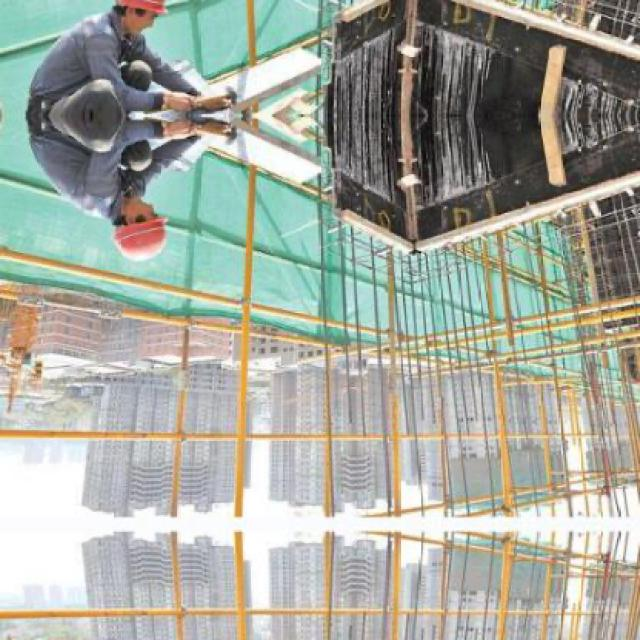con casco: (72, 167, 191, 279)
